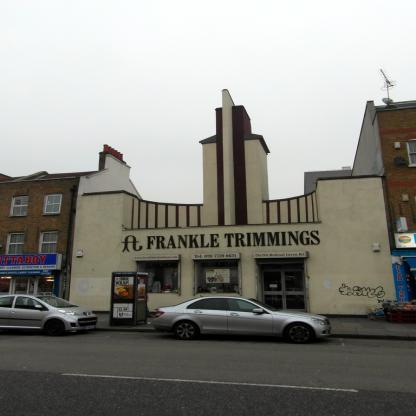Car: (144, 294, 337, 342), (0, 292, 102, 337)
